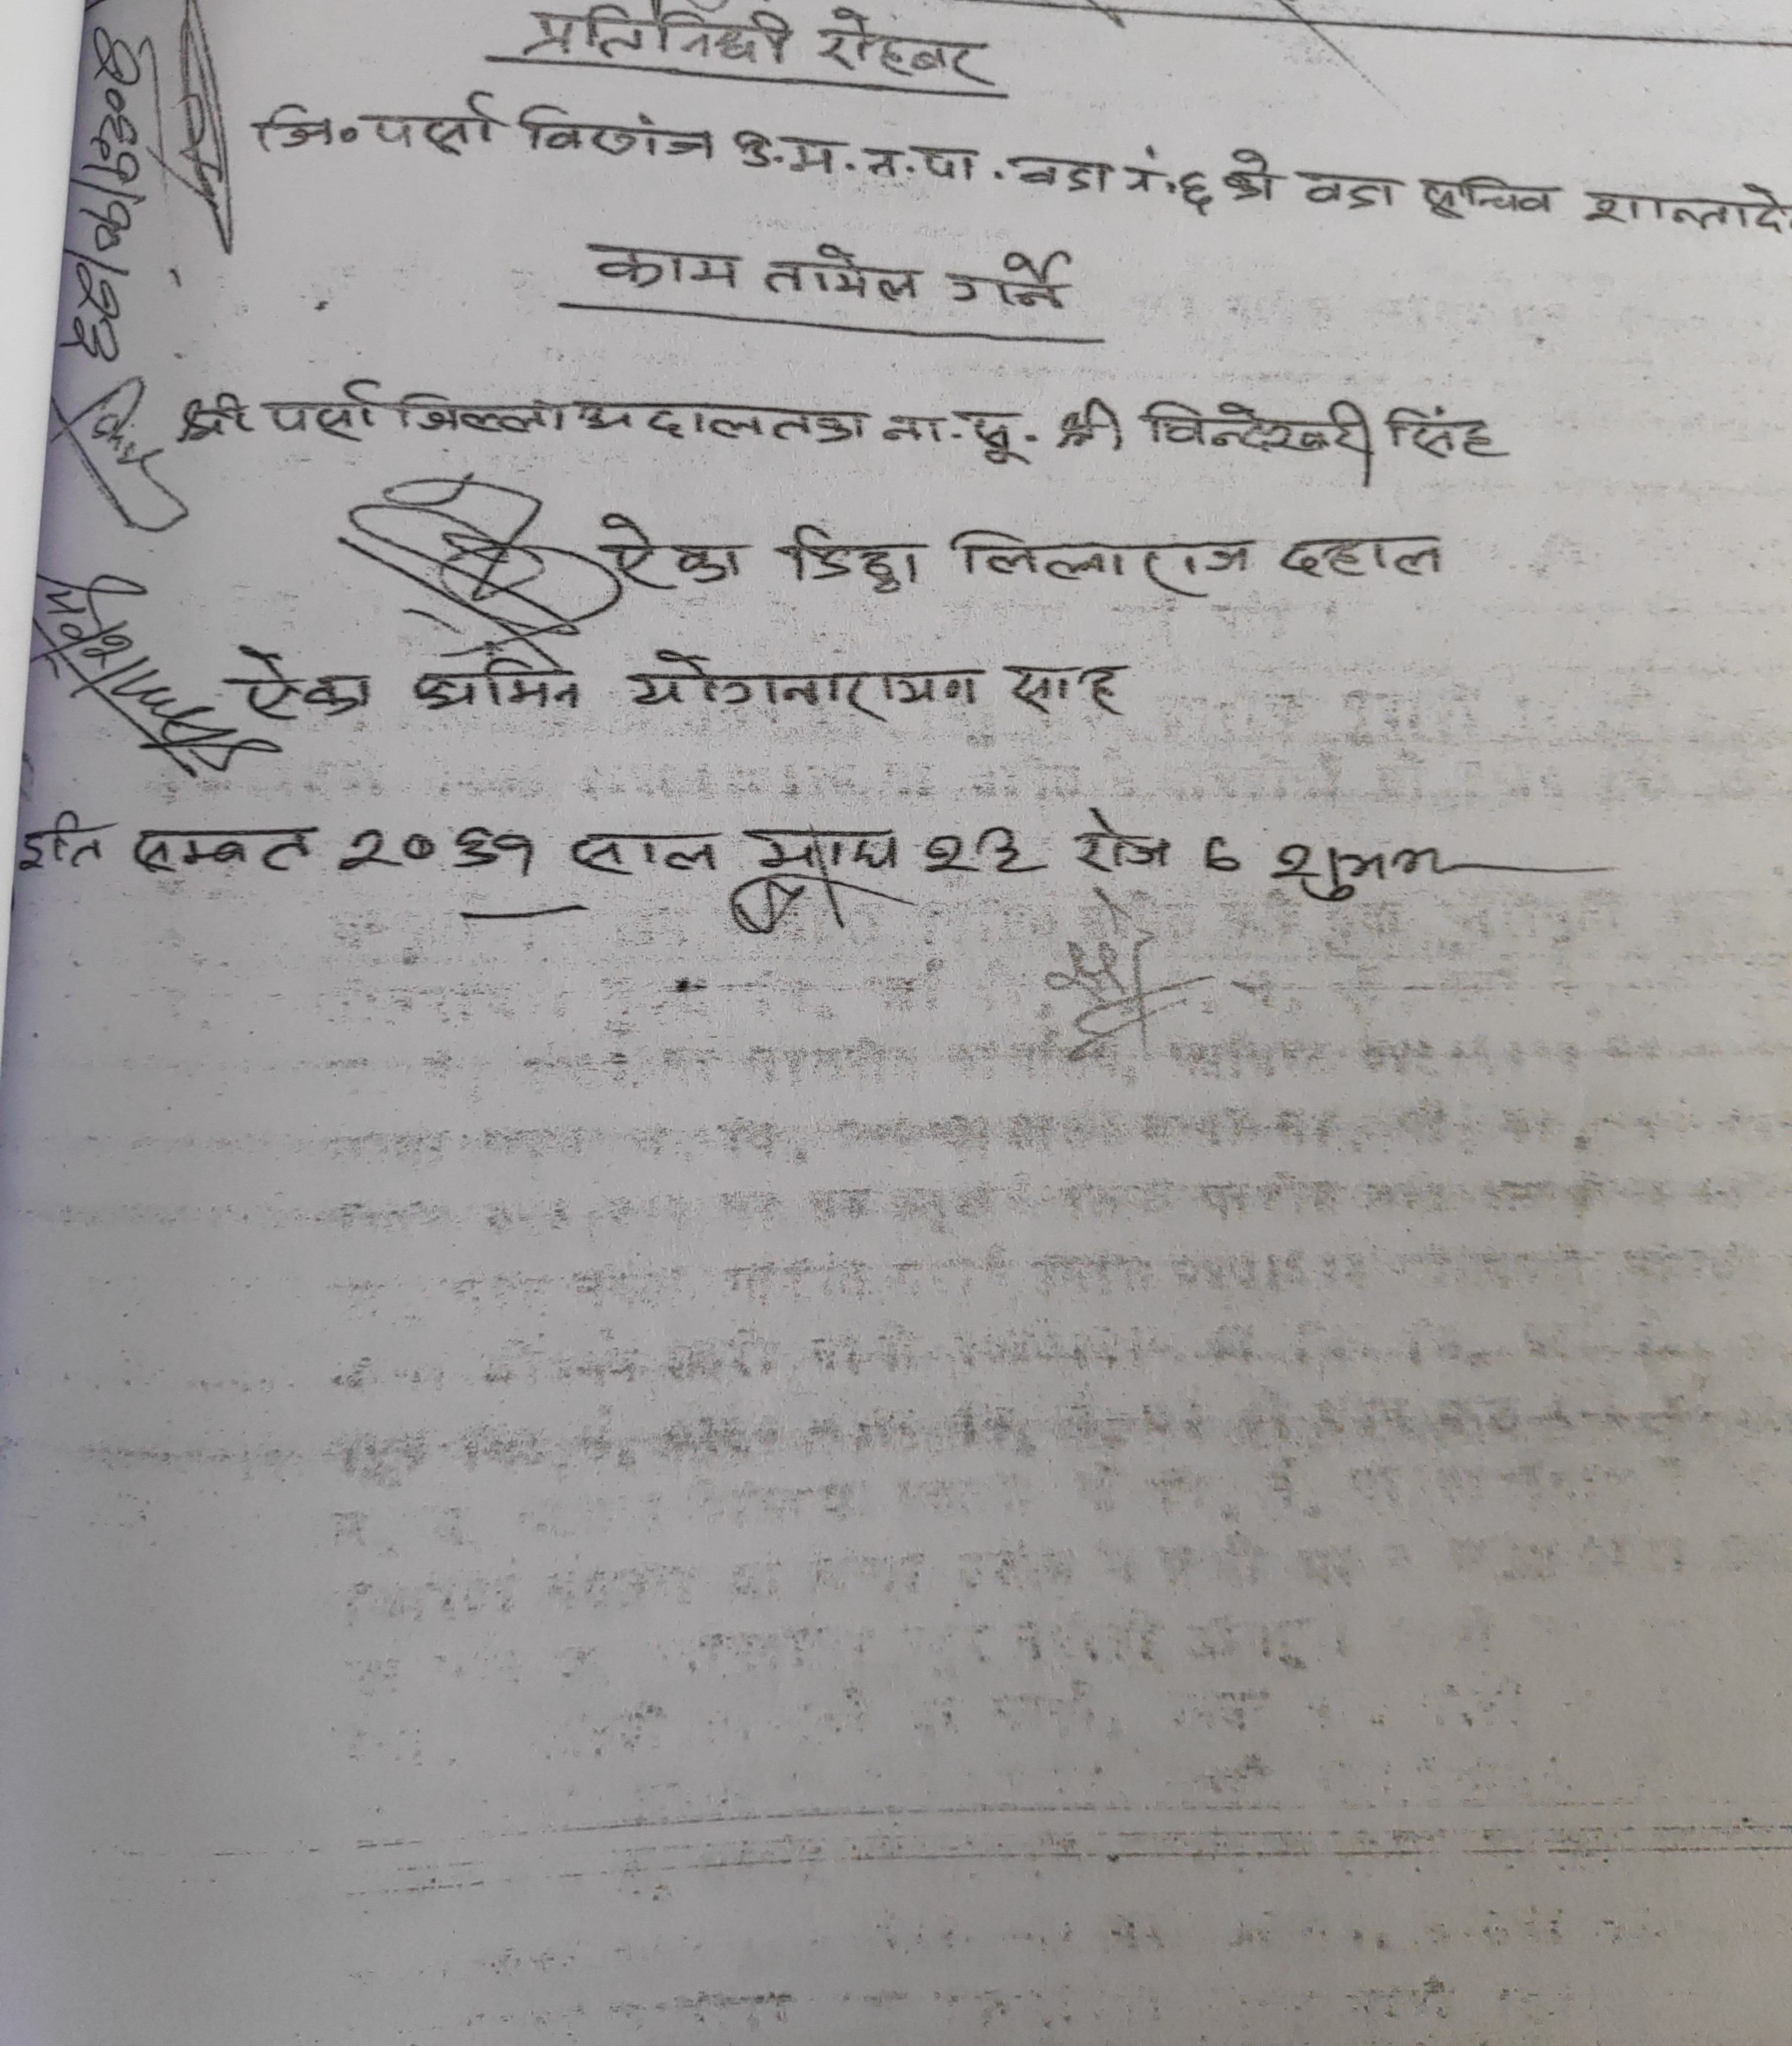text: (621, 644, 985, 724), (943, 517, 1265, 602), (576, 386, 873, 456), (522, 5, 799, 78), (256, 84, 501, 164), (1129, 391, 1376, 470), (731, 117, 985, 191), (513, 96, 720, 176), (1575, 172, 1792, 244), (219, 635, 381, 729), (332, 821, 541, 889), (122, 816, 320, 887), (590, 510, 748, 598), (1270, 830, 1461, 903), (814, 5, 988, 85), (875, 395, 1047, 473), (783, 520, 933, 600), (405, 651, 586, 715), (386, 383, 574, 444), (762, 242, 926, 311), (941, 247, 1089, 320), (741, 821, 912, 884), (1277, 527, 1458, 585), (581, 235, 745, 296), (920, 819, 1046, 898), (564, 826, 727, 884), (1418, 158, 1559, 223), (1061, 807, 1180, 880), (1374, 397, 1505, 463), (271, 372, 379, 451), (1006, 658, 1129, 725), (16, 806, 110, 875), (172, 386, 259, 452), (1011, 144, 1112, 200), (1298, 164, 1397, 217), (1053, 391, 1126, 459), (1220, 141, 1277, 212), (1117, 141, 1176, 200), (1174, 158, 1216, 226), (1200, 826, 1242, 877)
